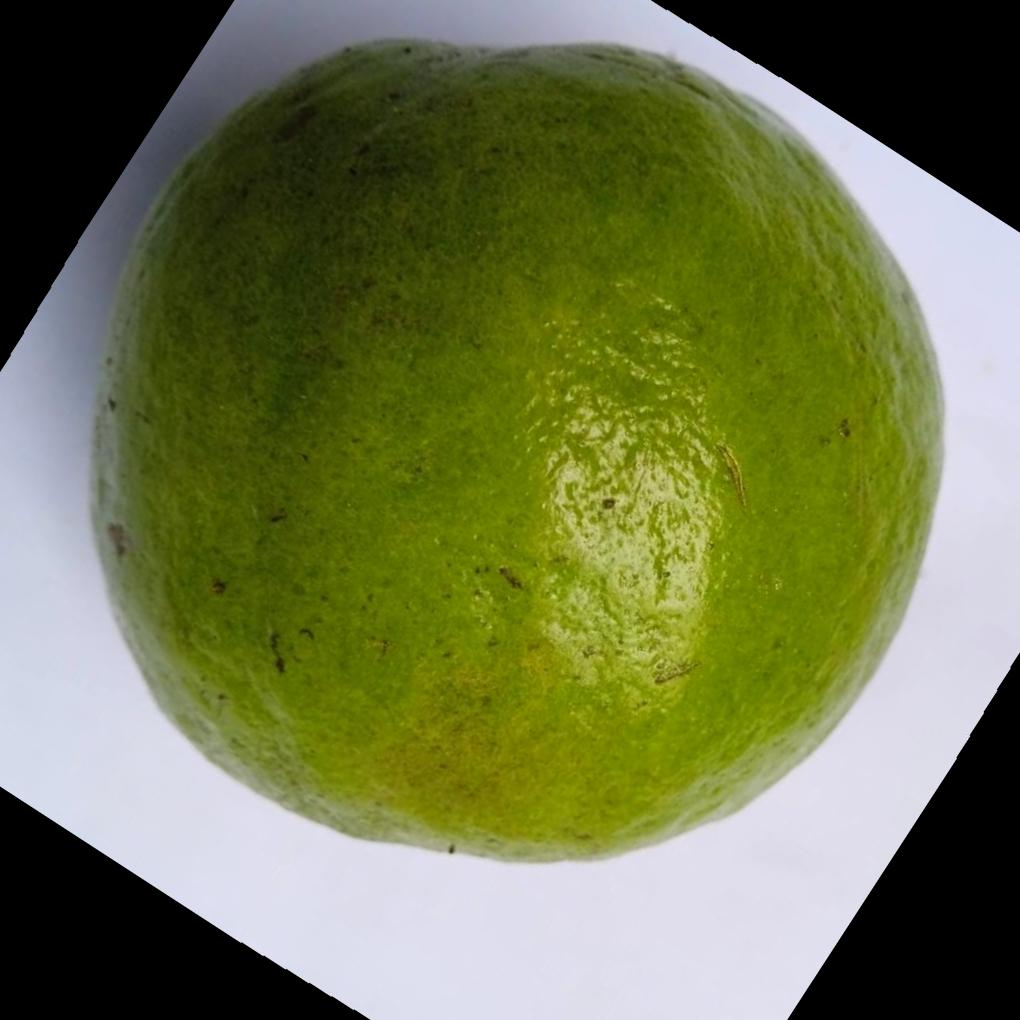FreshGuava: (85, 33, 943, 865)
